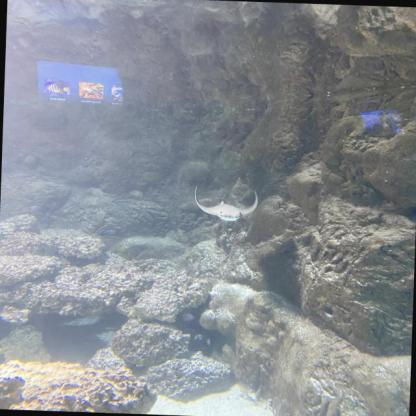stingray: (192, 187, 258, 222)
